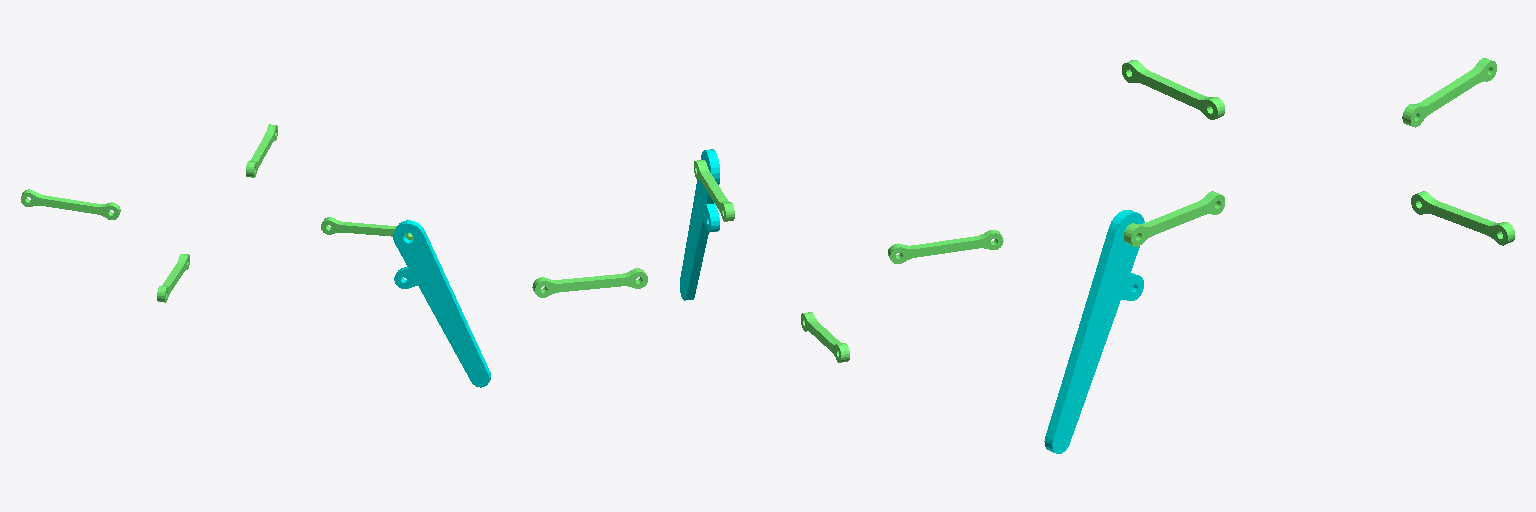
URDF robot description (TLA_Spider.SLDASM):
<?xml version="1.0" encoding="utf-8"?>
<!-- This URDF was automatically created by SolidWorks to URDF Exporter! Originally created by [author] ([email redacted]) 
     Commit Version: 1.6.0-4-g7f85cfe  Build Version: 1.6.7995.38578
     For more information, please see http://wiki.ros.org/sw_urdf_exporter -->
<robot
  name="TLA_Spider.SLDASM">
  <link
    name="base_link">
    <inertial>
      <origin
        xyz="0.0266892943143008 0.0363292392541809 0.0529146307622766"
        rpy="0 0 0" />
      <mass
        value="0.0921702413076557" />
      <inertia
        ixx="2.08625964058626E-05"
        ixy="-4.27199153295138E-13"
        ixz="3.28311314709021E-11"
        iyy="3.53797936296955E-05"
        iyz="-1.5085365891341E-11"
        izz="2.06809503924717E-05" />
    </inertial>
    <visual>
      <origin
        xyz="0 0 0"
        rpy="0 0 0" />
      <geometry>
        <mesh
          filename="package://TLA_Spider.SLDASM/meshes/base_link.STL" />
      </geometry>
      <material
        name="">
        <color
          rgba="0.752941176470588 0.752941176470588 0.752941176470588 1" />
      </material>
    </visual>
    <collision>
      <origin
        xyz="0 0 0"
        rpy="0 0 0" />
      <geometry>
        <mesh
          filename="package://TLA_Spider.SLDASM/meshes/base_link.STL" />
      </geometry>
    </collision>
  </link>
  <link
    name="Leg_upper_1">
    <inertial>
      <origin
        xyz="0.0219695652013671 0.0182206042868569 0.00306928262534811"
        rpy="0 0 0" />
      <mass
        value="0.0248043828707764" />
      <inertia
        ixx="1.11700647610023E-06"
        ixy="9.55168830429846E-08"
        ixz="5.16996811332449E-08"
        iyy="2.82437786068354E-06"
        iyz="1.10330416179466E-08"
        izz="2.13843485239965E-06" />
    </inertial>
    <visual>
      <origin
        xyz="0 0 0"
        rpy="0 0 0" />
      <geometry>
        <mesh
          filename="package://TLA_Spider.SLDASM/meshes/Leg_upper_1.STL" />
      </geometry>
      <material
        name="">
        <color
          rgba="0.752941176470588 0.752941176470588 0.752941176470588 1" />
      </material>
    </visual>
    <collision>
      <origin
        xyz="0 0 0"
        rpy="0 0 0" />
      <geometry>
        <mesh
          filename="package://TLA_Spider.SLDASM/meshes/Leg_upper_1.STL" />
      </geometry>
    </collision>
  </link>
  <joint
    name="Leg_upper_1"
    type="continuous">
    <origin
      xyz="0.0558314237945942 -0.082056810538703 0.0322574126580789"
      rpy="1.5707963267949 0 -0.770351507810951" />
    <parent
      link="base_link" />
    <child
      link="Leg_upper_1" />
    <axis
      xyz="0 1 0" />
  </joint>
  <link
    name="Lever_1">
    <inertial>
      <origin
        xyz="0.000137732744342312 -0.00939613235642105 -0.00404716546866996"
        rpy="0 0 0" />
      <mass
        value="0.00522501118381082" />
      <inertia
        ixx="1.49572193703694E-07"
        ixy="-1.08598986359122E-11"
        ixz="-4.0419407716901E-10"
        iyy="2.33200764441941E-07"
        iyz="-7.80735371769024E-12"
        izz="1.00631895775878E-07" />
    </inertial>
    <visual>
      <origin
        xyz="0 0 0"
        rpy="0 0 0" />
      <geometry>
        <mesh
          filename="package://TLA_Spider.SLDASM/meshes/Lever_1.STL" />
      </geometry>
      <material
        name="">
        <color
          rgba="0.752941176470588 0.752941176470588 0.752941176470588 1" />
      </material>
    </visual>
    <collision>
      <origin
        xyz="0 0 0"
        rpy="0 0 0" />
      <geometry>
        <mesh
          filename="package://TLA_Spider.SLDASM/meshes/Lever_1.STL" />
      </geometry>
    </collision>
  </link>
  <joint
    name="Lever_1"
    type="continuous">
    <origin
      xyz="0.024594 0.02115 0"
      rpy="1.5708 0 0.56575" />
    <parent
      link="Leg_upper_1" />
    <child
      link="Lever_1" />
    <axis
      xyz="0 1 0" />
  </joint>
  <link
    name="Shaft_1">
    <inertial>
      <origin
        xyz="0.00229998756333495 5.76205749780456E-14 -0.0209999999999994"
        rpy="0 0 0" />
      <mass
        value="0.000924746069982422" />
      <inertia
        ixx="2.16771891835994E-07"
        ixy="2.1713491079517E-23"
        ixz="-5.15617864956101E-20"
        iyy="2.15544270402288E-07"
        iyz="5.83430726109264E-19"
        izz="3.69361095365845E-09" />
    </inertial>
    <visual>
      <origin
        xyz="0 0 0"
        rpy="0 0 0" />
      <geometry>
        <mesh
          filename="package://TLA_Spider.SLDASM/meshes/Shaft_1.STL" />
      </geometry>
      <material
        name="">
        <color
          rgba="0.501960784313725 1 0.501960784313725 1" />
      </material>
    </visual>
    <collision>
      <origin
        xyz="0 0 0"
        rpy="0 0 0" />
      <geometry>
        <mesh
          filename="package://TLA_Spider.SLDASM/meshes/Shaft_1.STL" />
      </geometry>
    </collision>
  </link>
  <joint
    name="Shaft_1"
    type="prismatic">
    <origin
      xyz="0.036019 0 0.0047263"
      rpy="-1.0306 0 -1.5708" />
    <parent
      link="Lever_1" />
    <child
      link="Shaft_1" />
    <axis
      xyz="1 0 0" />
    <limit
      lower="0"
      upper="0"
      effort="0"
      velocity="0" />
  </joint>
  <link
    name="Leg_lower_1">
    <inertial>
      <origin
        xyz="0.00210000000002336 -9.15195454093132E-06 -0.0353242430383387"
        rpy="0 0 0" />
      <mass
        value="0.00511403475106288" />
      <inertia
        ixx="3.40097557199022E-06"
        ixy="-4.2351647362715E-22"
        ixz="2.63043434791863E-21"
        iyy="3.28327036320466E-06"
        iyz="1.35078946160938E-07"
        izz="1.31342634788394E-07" />
    </inertial>
    <visual>
      <origin
        xyz="0 0 0"
        rpy="0 0 0" />
      <geometry>
        <mesh
          filename="package://TLA_Spider.SLDASM/meshes/Leg_lower_1.STL" />
      </geometry>
      <material
        name="">
        <color
          rgba="0 1 1 1" />
      </material>
    </visual>
    <collision>
      <origin
        xyz="0 0 0"
        rpy="0 0 0" />
      <geometry>
        <mesh
          filename="package://TLA_Spider.SLDASM/meshes/Leg_lower_1.STL" />
      </geometry>
    </collision>
  </link>
  <joint
    name="Leg_lower_1"
    type="fixed">
    <origin
      xyz="0 0 0"
      rpy="1.9869 0 -3.1416" />
    <parent
      link="Shaft_1" />
    <child
      link="Leg_lower_1" />
    <axis
      xyz="0 0 0" />
  </joint>
  <link
    name="Leg_upper_2">
    <inertial>
      <origin
        xyz="0.0219724515584532 0.0182206044271985 -0.00309811153709386"
        rpy="0 0 0" />
      <mass
        value="0.0248043825976127" />
      <inertia
        ixx="1.11700647729267E-06"
        ixy="9.56337908812338E-08"
        ixz="-4.96044598039577E-08"
        iyy="2.82437783811212E-06"
        iyz="-1.10172036967586E-08"
        izz="2.13843482921062E-06" />
    </inertial>
    <visual>
      <origin
        xyz="0 0 0"
        rpy="0 0 0" />
      <geometry>
        <mesh
          filename="package://TLA_Spider.SLDASM/meshes/Leg_upper_2.STL" />
      </geometry>
      <material
        name="">
        <color
          rgba="0.752941176470588 0.752941176470588 0.752941176470588 1" />
      </material>
    </visual>
    <collision>
      <origin
        xyz="0 0 0"
        rpy="0 0 0" />
      <geometry>
        <mesh
          filename="package://TLA_Spider.SLDASM/meshes/Leg_upper_2.STL" />
      </geometry>
    </collision>
  </link>
  <joint
    name="Leg_upper_2"
    type="continuous">
    <origin
      xyz="-0.00245284745286619 -0.0820568105387026 0.0322574126580794"
      rpy="1.5707963267949 0 -2.34833207396482" />
    <parent
      link="base_link" />
    <child
      link="Leg_upper_2" />
    <axis
      xyz="0 1 0" />
  </joint>
  <link
    name="Lever_2">
    <inertial>
      <origin
        xyz="0.000137732744070695 0.00939505883879485 -0.00404716546895482"
        rpy="0 0 0" />
      <mass
        value="0.00522501118384892" />
      <inertia
        ixx="1.495721936999E-07"
        ixy="-1.08598984784832E-11"
        ixz="-4.04194076690804E-10"
        iyy="2.33200764442835E-07"
        iyz="-7.80735444168338E-12"
        izz="1.00631895780761E-07" />
    </inertial>
    <visual>
      <origin
        xyz="0 0 0"
        rpy="0 0 0" />
      <geometry>
        <mesh
          filename="package://TLA_Spider.SLDASM/meshes/Lever_2.STL" />
      </geometry>
      <material
        name="">
        <color
          rgba="0.752941176470588 0.752941176470588 0.752941176470588 1" />
      </material>
    </visual>
    <collision>
      <origin
        xyz="0 0 0"
        rpy="0 0 0" />
      <geometry>
        <mesh
          filename="package://TLA_Spider.SLDASM/meshes/Lever_2.STL" />
      </geometry>
    </collision>
  </link>
  <joint
    name="Lever_2"
    type="continuous">
    <origin
      xyz="0.024594 0.02115 0"
      rpy="1.5708 0 0.59052" />
    <parent
      link="Leg_upper_2" />
    <child
      link="Lever_2" />
    <axis
      xyz="0 1 0" />
  </joint>
  <link
    name="Shaft_2">
    <inertial>
      <origin
        xyz="-0.0022999875632927 5.91887650003287E-14 -0.0210000000000349"
        rpy="0 0 0" />
      <mass
        value="0.000924746069982422" />
      <inertia
        ixx="2.16771891835994E-07"
        ixy="1.03397576569128E-24"
        ixz="-6.20385459414771E-25"
        iyy="2.15544270402288E-07"
        iyz="2.20689202489734E-23"
        izz="3.69361095365839E-09" />
    </inertial>
    <visual>
      <origin
        xyz="0 0 0"
        rpy="0 0 0" />
      <geometry>
        <mesh
          filename="package://TLA_Spider.SLDASM/meshes/Shaft_2.STL" />
      </geometry>
      <material
        name="">
        <color
          rgba="0.501960784313725 1 0.501960784313725 1" />
      </material>
    </visual>
    <collision>
      <origin
        xyz="0 0 0"
        rpy="0 0 0" />
      <geometry>
        <mesh
          filename="package://TLA_Spider.SLDASM/meshes/Shaft_2.STL" />
      </geometry>
    </collision>
  </link>
  <joint
    name="Shaft_2"
    type="prismatic">
    <origin
      xyz="0.035614 0 0.0053891"
      rpy="-1.0121 0 -1.5708" />
    <parent
      link="Lever_2" />
    <child
      link="Shaft_2" />
    <axis
      xyz="1 0 0" />
    <limit
      lower="0"
      upper="0"
      effort="0"
      velocity="0" />
  </joint>
  <link
    name="Leg_lower_2">
    <inertial>
      <origin
        xyz="0.00199999999999963 -7.78388359218285E-06 -0.0300438332087714"
        rpy="0 0 0" />
      <mass
        value="0.00601286144806057" />
      <inertia
        ixx="3.40666556057306E-06"
        ixy="-1.05879118406788E-22"
        ixz="1.83634095986772E-21"
        iyy="3.28657694411922E-06"
        iyz="1.35078946160936E-07"
        izz="1.34649215702956E-07" />
    </inertial>
    <visual>
      <origin
        xyz="0 0 0"
        rpy="0 0 0" />
      <geometry>
        <mesh
          filename="package://TLA_Spider.SLDASM/meshes/Leg_lower_2.STL" />
      </geometry>
      <material
        name="">
        <color
          rgba="0.752941176470588 0.752941176470588 0.752941176470588 1" />
      </material>
    </visual>
    <collision>
      <origin
        xyz="0 0 0"
        rpy="0 0 0" />
      <geometry>
        <mesh
          filename="package://TLA_Spider.SLDASM/meshes/Leg_lower_2.STL" />
      </geometry>
    </collision>
  </link>
  <joint
    name="Leg_lower_2"
    type="fixed">
    <origin
      xyz="0.0041 0 0"
      rpy="1.996 0 3.1416" />
    <parent
      link="Shaft_2" />
    <child
      link="Leg_lower_2" />
    <axis
      xyz="0 0 0" />
  </joint>
  <link
    name="Leg_upper_3">
    <inertial>
      <origin
        xyz="0.0219695662103853 0.0182206040566766 0.00306928303355871"
        rpy="0 0 0" />
      <mass
        value="0.0248043815677668" />
      <inertia
        ixx="1.11700629001963E-06"
        ixy="9.55169681076297E-08"
        ixz="5.1699970567179E-08"
        iyy="2.82437776092305E-06"
        iyz="1.10330800439778E-08"
        izz="2.13843490661872E-06" />
    </inertial>
    <visual>
      <origin
        xyz="0 0 0"
        rpy="0 0 0" />
      <geometry>
        <mesh
          filename="package://TLA_Spider.SLDASM/meshes/Leg_upper_3.STL" />
      </geometry>
      <material
        name="">
        <color
          rgba="0.752941176470588 0.752941176470588 0.752941176470588 1" />
      </material>
    </visual>
    <collision>
      <origin
        xyz="0 0 0"
        rpy="0 0 0" />
      <geometry>
        <mesh
          filename="package://TLA_Spider.SLDASM/meshes/Leg_upper_3.STL" />
      </geometry>
    </collision>
  </link>
  <joint
    name="Leg_upper_3"
    type="continuous">
    <origin
      xyz="-0.00245284745286684 -0.0237725392912402 0.0322574126580794"
      rpy="1.5707963267949 0 2.44535194984566" />
    <parent
      link="base_link" />
    <child
      link="Leg_upper_3" />
    <axis
      xyz="0 1 0" />
  </joint>
  <link
    name="Lever_3">
    <inertial>
      <origin
        xyz="0.000137732741097914 -0.00939613235823964 -0.00404716546596748"
        rpy="0 0 0" />
      <mass
        value="0.00522501118887151" />
      <inertia
        ixx="1.49572193659465E-07"
        ixy="-1.08599013317567E-11"
        ixz="-4.04194077506601E-10"
        iyy="2.33200764432E-07"
        iyz="-7.80735644684694E-12"
        izz="1.00631895809334E-07" />
    </inertial>
    <visual>
      <origin
        xyz="0 0 0"
        rpy="0 0 0" />
      <geometry>
        <mesh
          filename="package://TLA_Spider.SLDASM/meshes/Lever_3.STL" />
      </geometry>
      <material
        name="">
        <color
          rgba="0.752941176470588 0.752941176470588 0.752941176470588 1" />
      </material>
    </visual>
    <collision>
      <origin
        xyz="0 0 0"
        rpy="0 0 0" />
      <geometry>
        <mesh
          filename="package://TLA_Spider.SLDASM/meshes/Lever_3.STL" />
      </geometry>
    </collision>
  </link>
  <joint
    name="Lever_3"
    type="continuous">
    <origin
      xyz="0.024594 0.02115 0"
      rpy="1.5708 0 0.80778" />
    <parent
      link="Leg_upper_3" />
    <child
      link="Lever_3" />
    <axis
      xyz="0 1 0" />
  </joint>
  <link
    name="Shaft_3">
    <inertial>
      <origin
        xyz="-0.00229998756330631 9.17321774096536E-15 -0.0210000000000089"
        rpy="0 0 0" />
      <mass
        value="0.000924746069982425" />
      <inertia
        ixx="2.16771891835994E-07"
        ixy="-2.48154183765908E-24"
        ixz="6.61744490042422E-24"
        iyy="2.15544270402289E-07"
        iyz="-2.54099544418633E-22"
        izz="3.69361095365844E-09" />
    </inertial>
    <visual>
      <origin
        xyz="0 0 0"
        rpy="0 0 0" />
      <geometry>
        <mesh
          filename="package://TLA_Spider.SLDASM/meshes/Shaft_3.STL" />
      </geometry>
      <material
        name="">
        <color
          rgba="0.501960784313725 1 0.501960784313725 1" />
      </material>
    </visual>
    <collision>
      <origin
        xyz="0 0 0"
        rpy="0 0 0" />
      <geometry>
        <mesh
          filename="package://TLA_Spider.SLDASM/meshes/Shaft_3.STL" />
      </geometry>
    </collision>
  </link>
  <joint
    name="Shaft_3"
    type="prismatic">
    <origin
      xyz="0 0 -0.016875"
      rpy="-2.2887 0 1.5708" />
    <parent
      link="Lever_3" />
    <child
      link="Shaft_3" />
    <axis
      xyz="1 0 0" />
    <limit
      lower="0"
      upper="0"
      effort="0"
      velocity="0" />
  </joint>
  <link
    name="Leg_lower_3">
    <inertial>
      <origin
        xyz="0.00200000000000873 -7.78388361417914E-06 -0.0300438332088237"
        rpy="0 0 0" />
      <mass
        value="0.00601286144806056" />
      <inertia
        ixx="3.40666556057306E-06"
        ixy="-9.95263713023803E-21"
        ixz="1.02922774897523E-19"
        iyy="3.2865769441197E-06"
        iyz="1.35078946155318E-07"
        izz="1.34649215702474E-07" />
    </inertial>
    <visual>
      <origin
        xyz="0 0 0"
        rpy="0 0 0" />
      <geometry>
        <mesh
          filename="package://TLA_Spider.SLDASM/meshes/Leg_lower_3.STL" />
      </geometry>
      <material
        name="">
        <color
          rgba="0.752941176470588 0.752941176470588 0.752941176470588 1" />
      </material>
    </visual>
    <collision>
      <origin
        xyz="0 0 0"
        rpy="0 0 0" />
      <geometry>
        <mesh
          filename="package://TLA_Spider.SLDASM/meshes/Leg_lower_3.STL" />
      </geometry>
    </collision>
  </link>
  <joint
    name="Leg_lower_3"
    type="fixed">
    <origin
      xyz="9.99999999978206E-05 0 -0.0420000000000199"
      rpy="-1.07775594280968 0 0" />
    <parent
      link="Shaft_3" />
    <child
      link="Leg_lower_3" />
    <axis
      xyz="0 0 0" />
  </joint>
  <link
    name="Leg_upper_4">
    <inertial>
      <origin
        xyz="0.0219724513836955 0.0182206044059165 -0.00309811158838733"
        rpy="0 0 0" />
      <mass
        value="0.0248043824392843" />
      <inertia
        ixx="1.11700645663666E-06"
        ixy="9.5633780592067E-08"
        ixz="-4.96044223449721E-08"
        iyy="2.82437782886804E-06"
        iyz="-1.10172081655124E-08"
        izz="2.13843483699474E-06" />
    </inertial>
    <visual>
      <origin
        xyz="0 0 0"
        rpy="0 0 0" />
      <geometry>
        <mesh
          filename="package://TLA_Spider.SLDASM/meshes/Leg_upper_4.STL" />
      </geometry>
      <material
        name="">
        <color
          rgba="0.752941176470588 0.752941176470588 0.752941176470588 1" />
      </material>
    </visual>
    <collision>
      <origin
        xyz="0 0 0"
        rpy="0 0 0" />
      <geometry>
        <mesh
          filename="package://TLA_Spider.SLDASM/meshes/Leg_upper_4.STL" />
      </geometry>
    </collision>
  </link>
  <joint
    name="Leg_upper_4"
    type="continuous">
    <origin
      xyz="0.055831423794595 -0.02377253929124 0.0322574126580794"
      rpy="1.5707963267949 0 0.800237564975585" />
    <parent
      link="base_link" />
    <child
      link="Leg_upper_4" />
    <axis
      xyz="0 1 0" />
  </joint>
  <link
    name="Lever_4">
    <inertial>
      <origin
        xyz="0.000137732744308783 0.00939505883875123 -0.00404716546880343"
        rpy="0 0 0" />
      <mass
        value="0.00522501118381655" />
      <inertia
        ixx="1.49572193703061E-07"
        ixy="-1.08598986089792E-11"
        ixz="-4.04194077088423E-10"
        iyy="2.33200764442093E-07"
        iyz="-7.80735383925932E-12"
        izz="1.00631895776696E-07" />
    </inertial>
    <visual>
      <origin
        xyz="0 0 0"
        rpy="0 0 0" />
      <geometry>
        <mesh
          filename="package://TLA_Spider.SLDASM/meshes/Lever_4.STL" />
      </geometry>
      <material
        name="">
        <color
          rgba="0.752941176470588 0.752941176470588 0.752941176470588 1" />
      </material>
    </visual>
    <collision>
      <origin
        xyz="0 0 0"
        rpy="0 0 0" />
      <geometry>
        <mesh
          filename="package://TLA_Spider.SLDASM/meshes/Lever_4.STL" />
      </geometry>
    </collision>
  </link>
  <joint
    name="Lever_4"
    type="continuous">
    <origin
      xyz="0.0245943670538191 0.0211500000000002 0"
      rpy="1.5707963267949 0 0.569899338365783" />
    <parent
      link="Leg_upper_4" />
    <child
      link="Lever_4" />
    <axis
      xyz="0 1 0" />
  </joint>
  <link
    name="Shaft_4">
    <inertial>
      <origin
        xyz="0.00229998756329507 5.41233724504764E-16 -0.0209999999999986"
        rpy="0 0 0" />
      <mass
        value="0.000924746069982424" />
      <inertia
        ixx="2.16771891835994E-07"
        ixy="0"
        ixz="-2.55392014125747E-23"
        iyy="2.15544270402289E-07"
        iyz="-9.6227600868913E-23"
        izz="3.69361095365842E-09" />
    </inertial>
    <visual>
      <origin
        xyz="0 0 0"
        rpy="0 0 0" />
      <geometry>
        <mesh
          filename="package://TLA_Spider.SLDASM/meshes/Shaft_4.STL" />
      </geometry>
      <material
        name="">
        <color
          rgba="0.501960784313725 1 0.501960784313725 1" />
      </material>
    </visual>
    <collision>
      <origin
        xyz="0 0 0"
        rpy="0 0 0" />
      <geometry>
        <mesh
          filename="package://TLA_Spider.SLDASM/meshes/Shaft_4.STL" />
      </geometry>
    </collision>
  </link>
  <joint
    name="Shaft_4"
    type="prismatic">
    <origin
      xyz="0 0 -0.016875"
      rpy="-2.1141 0 1.5708" />
    <parent
      link="Lever_4" />
    <child
      link="Shaft_4" />
    <axis
      xyz="1 0 0" />
    <limit
      lower="0"
      upper="0"
      effort="0"
      velocity="0" />
  </joint>
  <link
    name="Leg_lower_4">
    <inertial>
      <origin
        xyz="0.00199999999999988 -7.78388358881055E-06 -0.0300438332087987"
        rpy="0 0 0" />
      <mass
        value="0.00601286144806056" />
      <inertia
        ixx="3.40666556057305E-06"
        ixy="0"
        ixz="6.15091503494431E-21"
        iyy="3.28657694411921E-06"
        iyz="1.35078946160943E-07"
        izz="1.34649215702956E-07" />
    </inertial>
    <visual>
      <origin
        xyz="0 0 0"
        rpy="0 0 0" />
      <geometry>
        <mesh
          filename="package://TLA_Spider.SLDASM/meshes/Leg_lower_4.STL" />
      </geometry>
      <material
        name="">
        <color
          rgba="0.752941176470588 0.752941176470588 0.752941176470588 1" />
      </material>
    </visual>
    <collision>
      <origin
        xyz="0 0 0"
        rpy="0 0 0" />
      <geometry>
        <mesh
          filename="package://TLA_Spider.SLDASM/meshes/Leg_lower_4.STL" />
      </geometry>
    </collision>
  </link>
  <joint
    name="Leg_lower_4"
    type="fixed">
    <origin
      xyz="-0.0041 0 -0.042"
      rpy="-1.1532 0 0" />
    <parent
      link="Shaft_4" />
    <child
      link="Leg_lower_4" />
    <axis
      xyz="0 0 0" />
  </joint>
</robot>

--- Facts derived from the render (not from the file) ---
The picture shows the robot from 3 angles, left to right: view 1: azimuth 30°, elevation 25°; view 2: azimuth 150°, elevation 25°; view 3: azimuth 270°, elevation 25°; orthographic projection.
Model TLA_Spider.SLDASM with 17 links and 16 joints (8 continuous, 4 prismatic, 4 fixed), rooted at base_link, posed every joint at zero.
Links seen in each view (by area): view 1: Leg_lower_1, Shaft_3, Shaft_1, Shaft_4, Shaft_2; view 2: Leg_lower_1, Shaft_2, Shaft_4, Shaft_1, Shaft_3; view 3: Leg_lower_1, Shaft_2, Shaft_4, Shaft_3, Shaft_1.
Link boxes in pixels (bbox=[...]): Leg_lower_1: bbox=[393, 220, 490, 387]; Shaft_3: bbox=[21, 189, 120, 219]; Shaft_1: bbox=[321, 217, 413, 239]; Shaft_4: bbox=[246, 124, 277, 177]; Shaft_2: bbox=[157, 254, 189, 302]; Leg_lower_1: bbox=[680, 149, 719, 300]; Shaft_2: bbox=[888, 230, 1003, 263]; Shaft_4: bbox=[532, 268, 647, 297]; Shaft_1: bbox=[694, 160, 734, 221]; Shaft_3: bbox=[801, 312, 849, 362]; Leg_lower_1: bbox=[1044, 210, 1144, 453]; Shaft_2: bbox=[1122, 60, 1224, 119]; Shaft_4: bbox=[1411, 191, 1515, 245]; Shaft_3: bbox=[1402, 58, 1496, 127]; Shaft_1: bbox=[1124, 191, 1224, 246].
Bounding box of the posed robot: 0.1766 × 0.174 × 0.0856 m (x, y, z).
Meshes: 17 distinct files referenced, 5 mesh visuals loaded (5 binary STL); not drawn: 1 (reference not matched to a file when rendering), 11 (file found but could not be loaded).